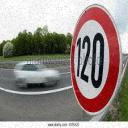speed_limit_120: (69, 4, 122, 115)
